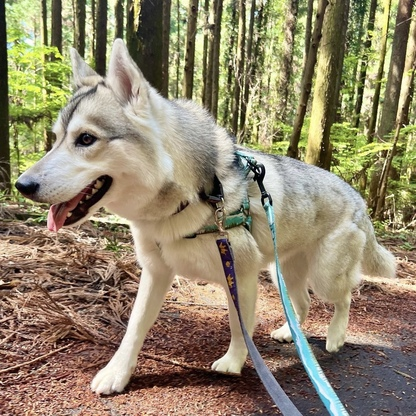husky: (11, 34, 404, 399)
